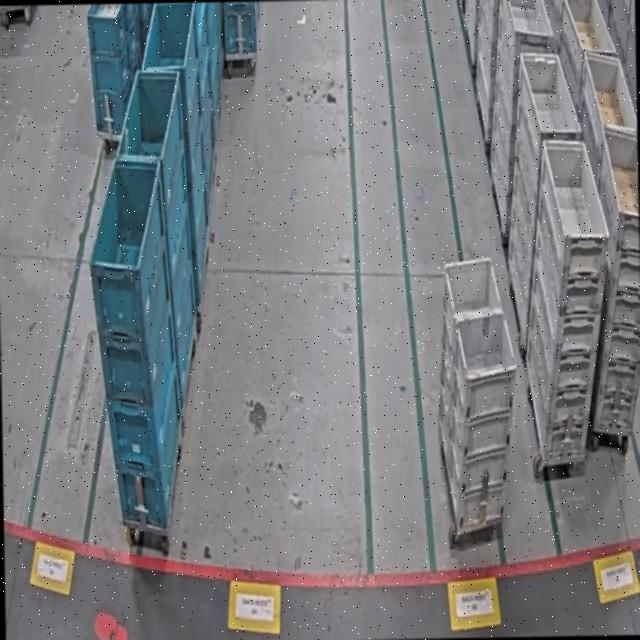6G: (520, 136, 611, 462)
8G: (438, 253, 518, 537)
B4: (86, 152, 184, 528)
B8: (86, 3, 142, 137), (224, 1, 258, 61)
